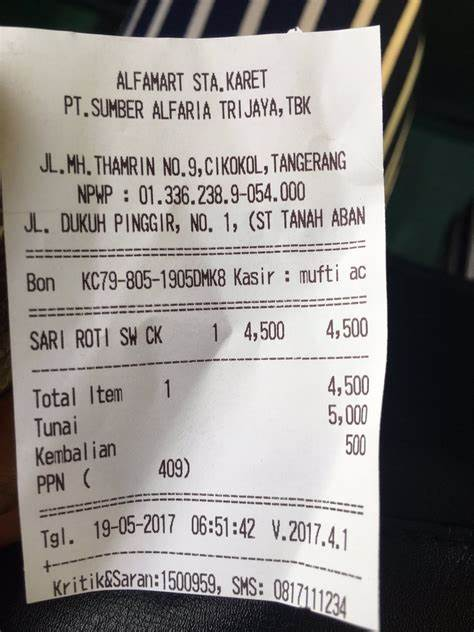total belanja: (14, 369, 375, 411)
